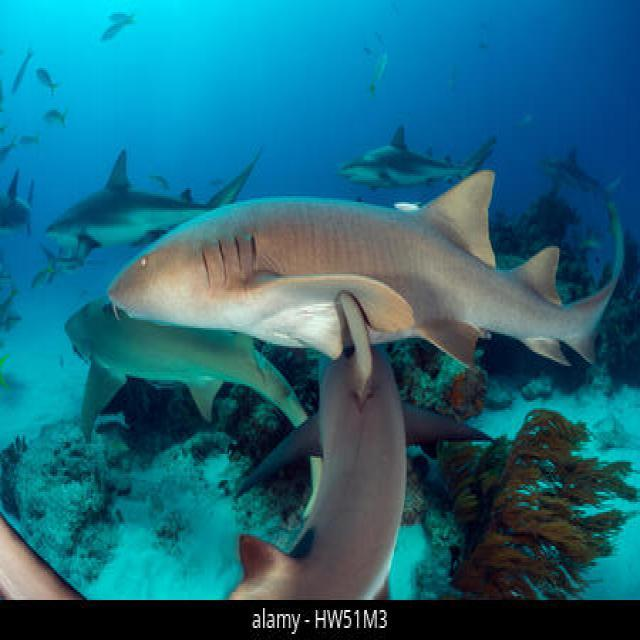Shark: (94, 130, 633, 366)
